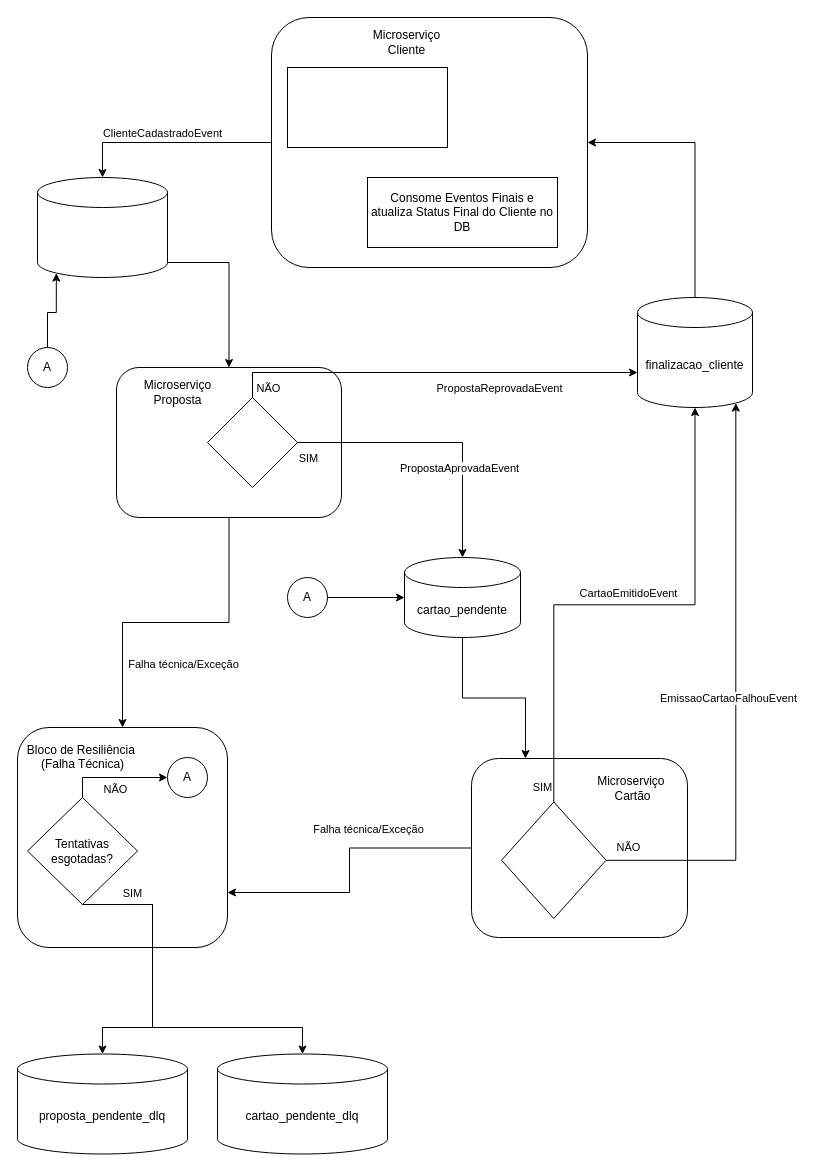
Some shapes in this 814 by 1172 pixel diagram are drawn without their labels. Here are the shapes that lost their labels. From the top down, the centre of each, then its label:
the point at 367,107: Recebe POST /clientes e Salva Cliente no DB
the point at 102,227: proposta_pendente
the point at 252,442: Proposta aprovada?
the point at 553,859: Cartão emitido?
